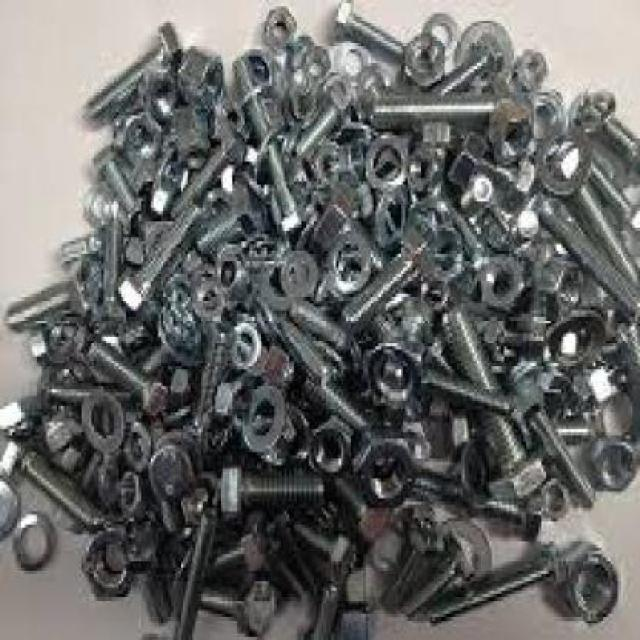METAL: (442, 300, 544, 492), (232, 53, 305, 235), (425, 541, 563, 630), (114, 198, 203, 317), (79, 16, 178, 122), (338, 225, 428, 326), (400, 528, 474, 637), (522, 396, 596, 504), (366, 82, 509, 132), (383, 508, 448, 617), (297, 369, 375, 458), (166, 135, 252, 214), (84, 330, 170, 408), (5, 254, 97, 323), (262, 297, 331, 386), (171, 505, 215, 637), (191, 571, 277, 637), (361, 326, 422, 412), (585, 151, 638, 247), (78, 520, 138, 598), (289, 514, 356, 580), (331, 0, 406, 57), (214, 468, 324, 506), (145, 429, 201, 502), (153, 271, 198, 360), (565, 538, 613, 620), (475, 484, 539, 542), (298, 402, 351, 472), (545, 303, 601, 369), (89, 144, 136, 222), (535, 125, 591, 188), (484, 96, 531, 169), (111, 109, 160, 174), (309, 175, 353, 247), (450, 12, 508, 66), (326, 224, 374, 287), (477, 248, 529, 306), (237, 382, 281, 448), (78, 386, 122, 452), (588, 432, 638, 488), (565, 78, 613, 136), (131, 63, 180, 119), (536, 251, 581, 311), (175, 42, 220, 102), (402, 29, 446, 89), (422, 221, 462, 287), (361, 128, 405, 186), (210, 528, 262, 577), (239, 510, 279, 568), (305, 577, 343, 637), (445, 128, 477, 198), (370, 185, 405, 248), (594, 112, 638, 162), (212, 241, 245, 307), (10, 510, 50, 564), (408, 139, 444, 195), (259, 3, 295, 57), (531, 88, 564, 146), (274, 251, 318, 294), (460, 435, 485, 508), (196, 210, 244, 248), (0, 396, 45, 436), (227, 320, 259, 372), (114, 468, 146, 518), (42, 406, 80, 448), (306, 136, 342, 178), (511, 46, 546, 89), (249, 120, 280, 168), (457, 172, 494, 212), (355, 59, 388, 102), (420, 9, 457, 46), (536, 474, 566, 514), (0, 468, 17, 538), (512, 205, 539, 248), (54, 442, 85, 476), (339, 36, 363, 79), (319, 69, 346, 106), (148, 172, 170, 214), (27, 327, 50, 365), (57, 234, 106, 251), (286, 33, 309, 65), (237, 80, 265, 106), (304, 46, 327, 76)
